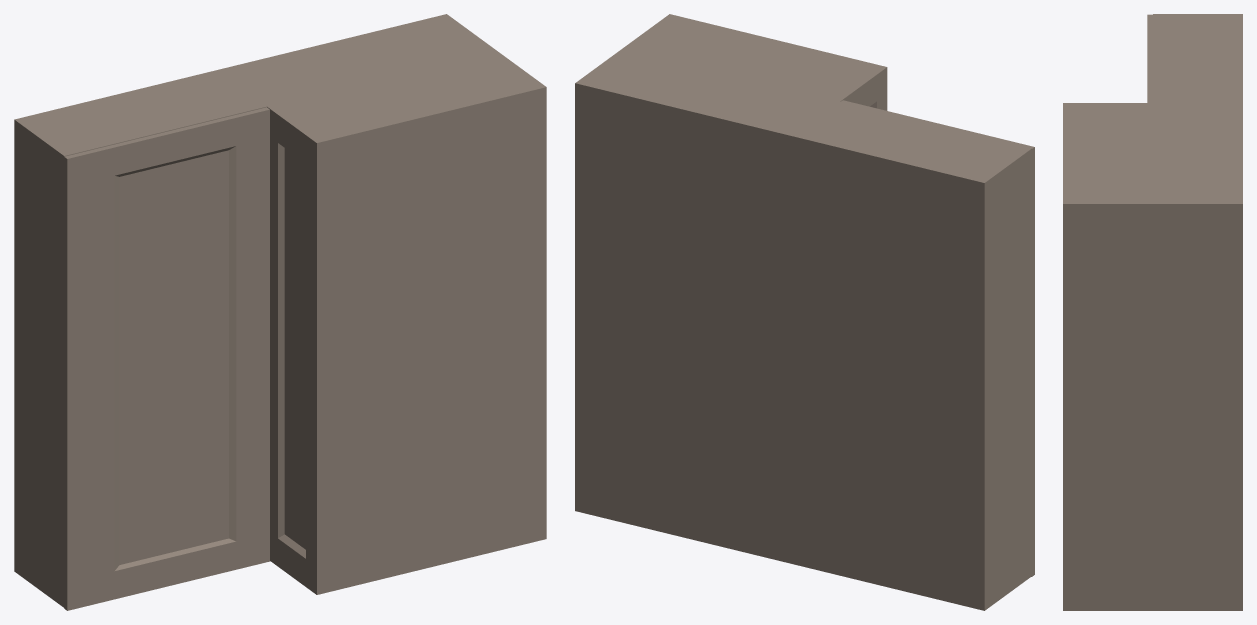
Rendered from Wall-Cabinet-Easy-Reach-12-Deep_std_001_W30in.glb.
3 renders of one model, left to right at view 1: azimuth 30°, elevation 25°; view 2: azimuth 150°, elevation 25°; view 3: azimuth 270°, elevation 25°, orthographic. The views are drawn at different scales.
Parts seen in each view (by area): view 1: Wall-Cabinet-Easy-Reach-12-Deep.std.001_W30in; view 2: Wall-Cabinet-Easy-Reach-12-Deep.std.001_W30in; view 3: Wall-Cabinet-Easy-Reach-12-Deep.std.001_W30in.
Boxes of the visible parts, left/top/right/bottom form: Wall-Cabinet-Easy-Reach-12-Deep.std.001_W30in: left=14, top=14, right=546, bottom=610; Wall-Cabinet-Easy-Reach-12-Deep.std.001_W30in: left=575, top=14, right=1034, bottom=610; Wall-Cabinet-Easy-Reach-12-Deep.std.001_W30in: left=1063, top=14, right=1242, bottom=610.
Bounding box in the file's own units: 0.762 × 0.762 × 0.3048.
